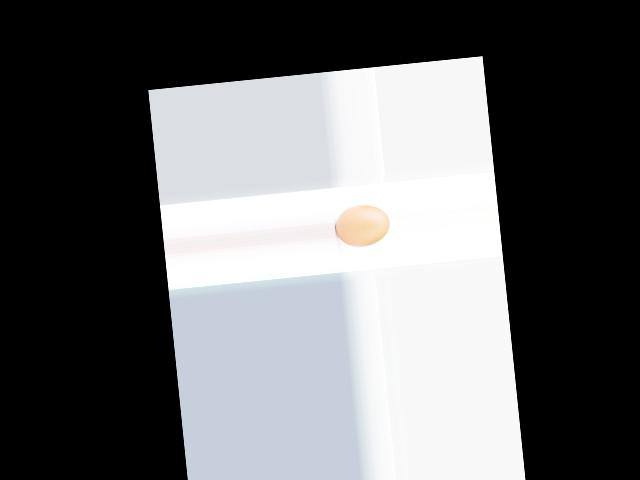egg: (333, 202, 391, 249)
